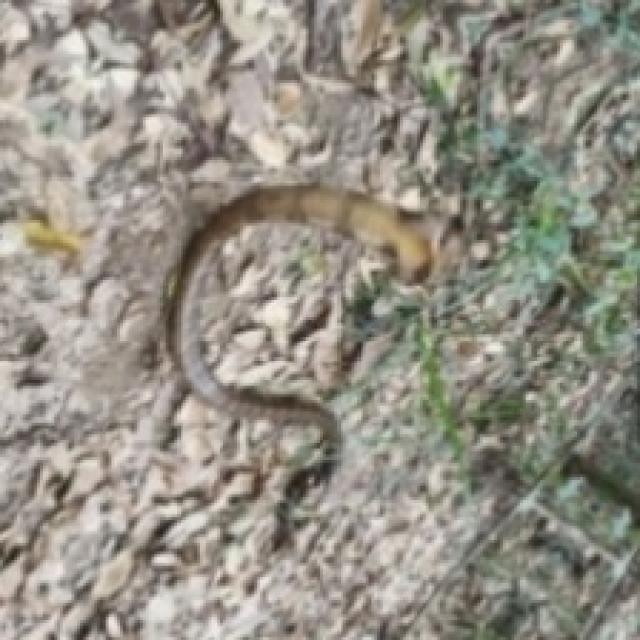king cobra: (166, 183, 431, 460)
